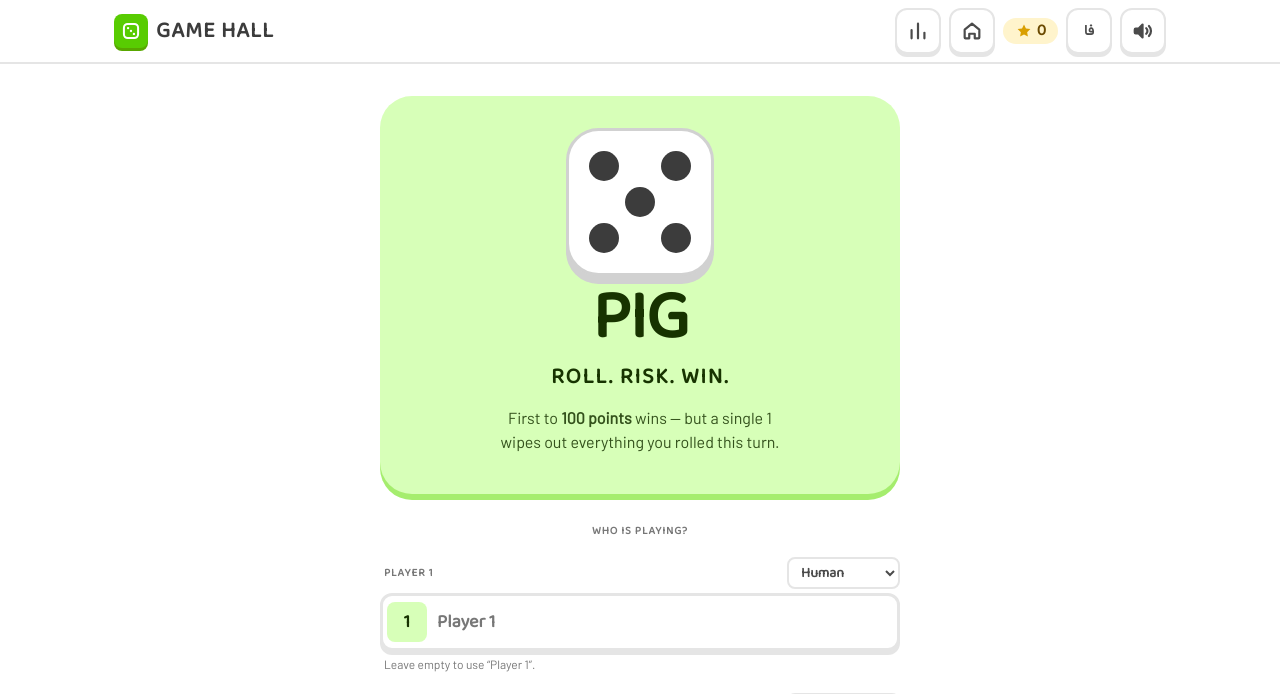
Scenario: language switch › switches to Persian with RTL and remembers the choice
The image size is (1280, 694).
Click the button with aria-label "Switch to Persian" at (1089, 31), box [1066,8,1112,54]
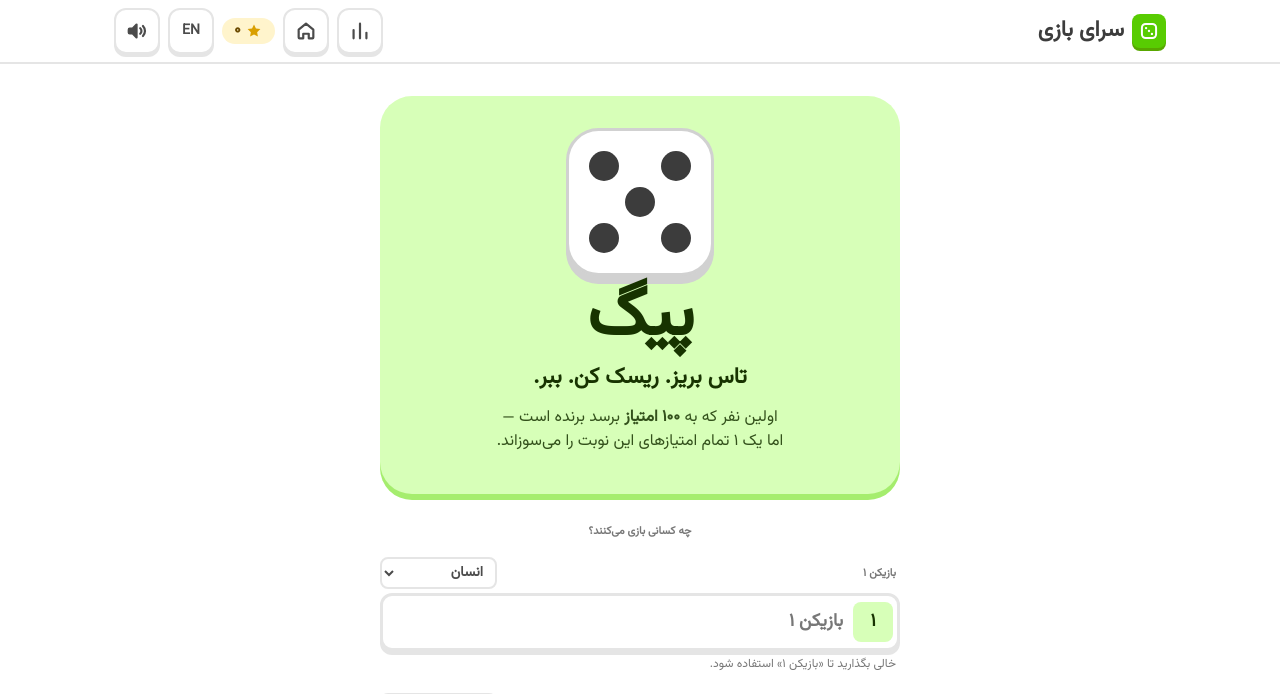
Expected: the text "تاس بریز. ریسک کن. ببر." is shown, [533,361,747,394]
